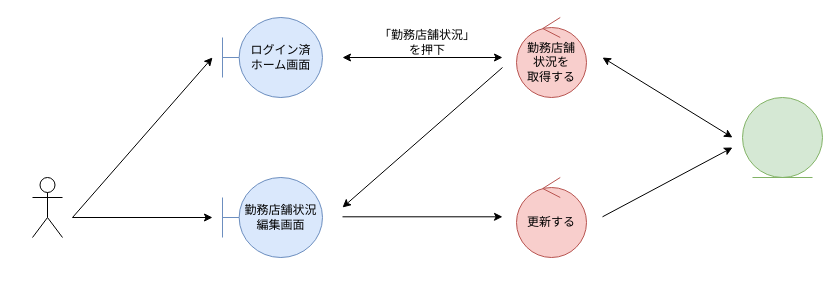
This 840x291 diagram has some shape labels left out. The centre of each missing label's shape, as x and y in pixels:
勤務店舗状況: point (782, 137)
正規社員 非正規社員: point (47, 207)
